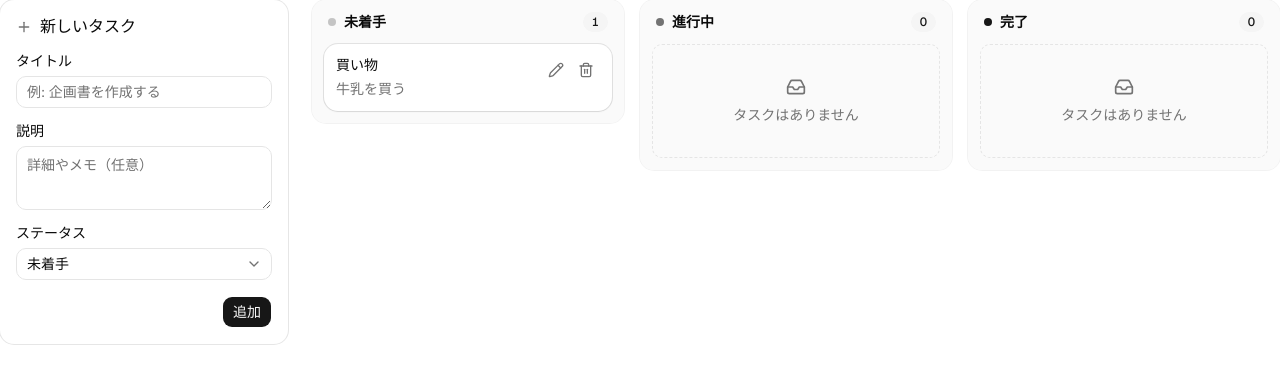
Test case: タスクの編集 › 編集中にキャンセルすると、変更は破棄され元の表示に戻る
Click the button named "編集" at (556, 70), box x1=542 y1=56 x2=570 y2=84
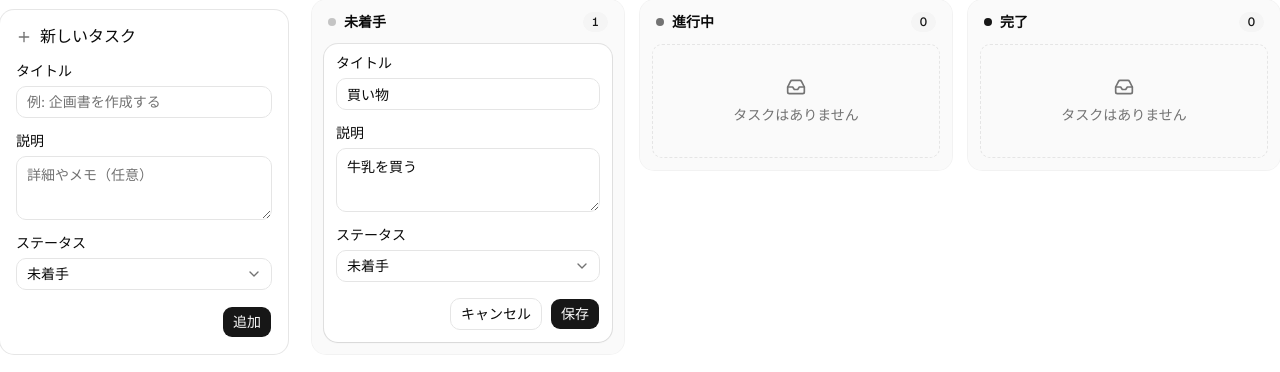
Type "（変更）" into the field labelled "タイトル" below "未着手" at (468, 94), box x1=336 y1=78 x2=600 y2=110
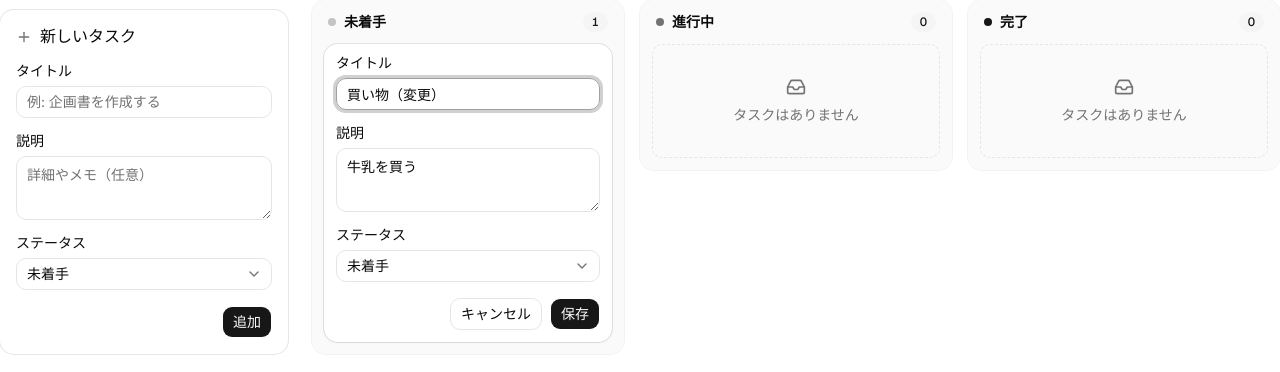
Click the button "キャンセル" at (496, 314), box x1=450 y1=298 x2=542 y2=330
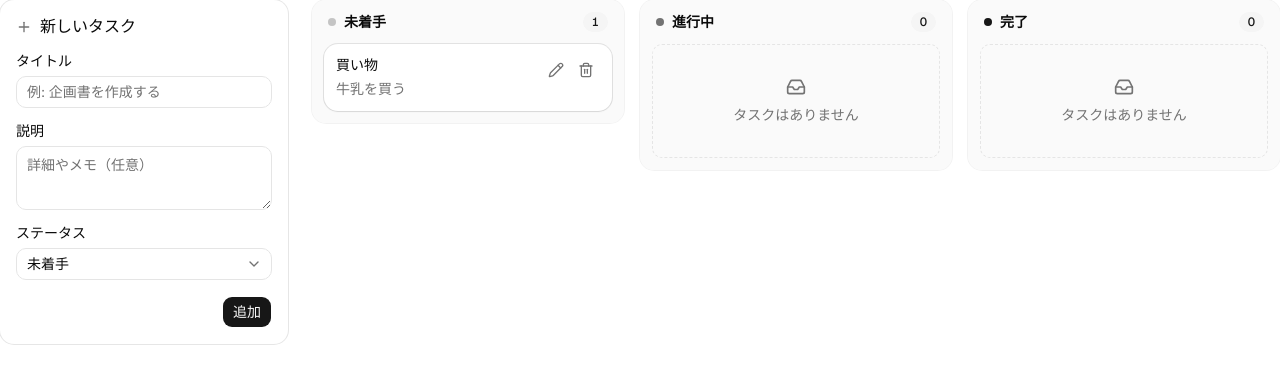
Expected: the button named "編集" is shown, x1=542 y1=56 x2=570 y2=84
